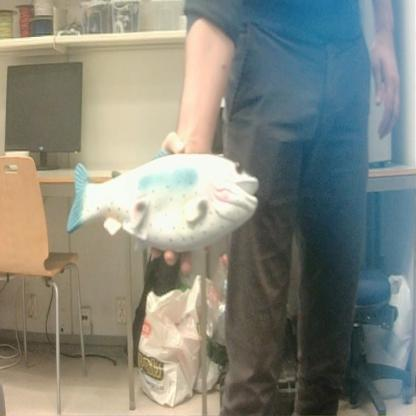rubberfish: (62, 147, 263, 257)
